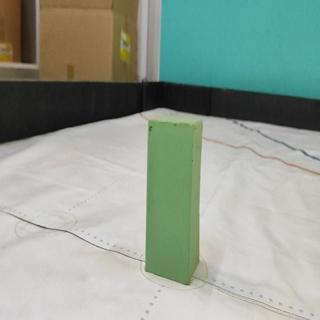greenbox: (143, 113, 205, 286)
